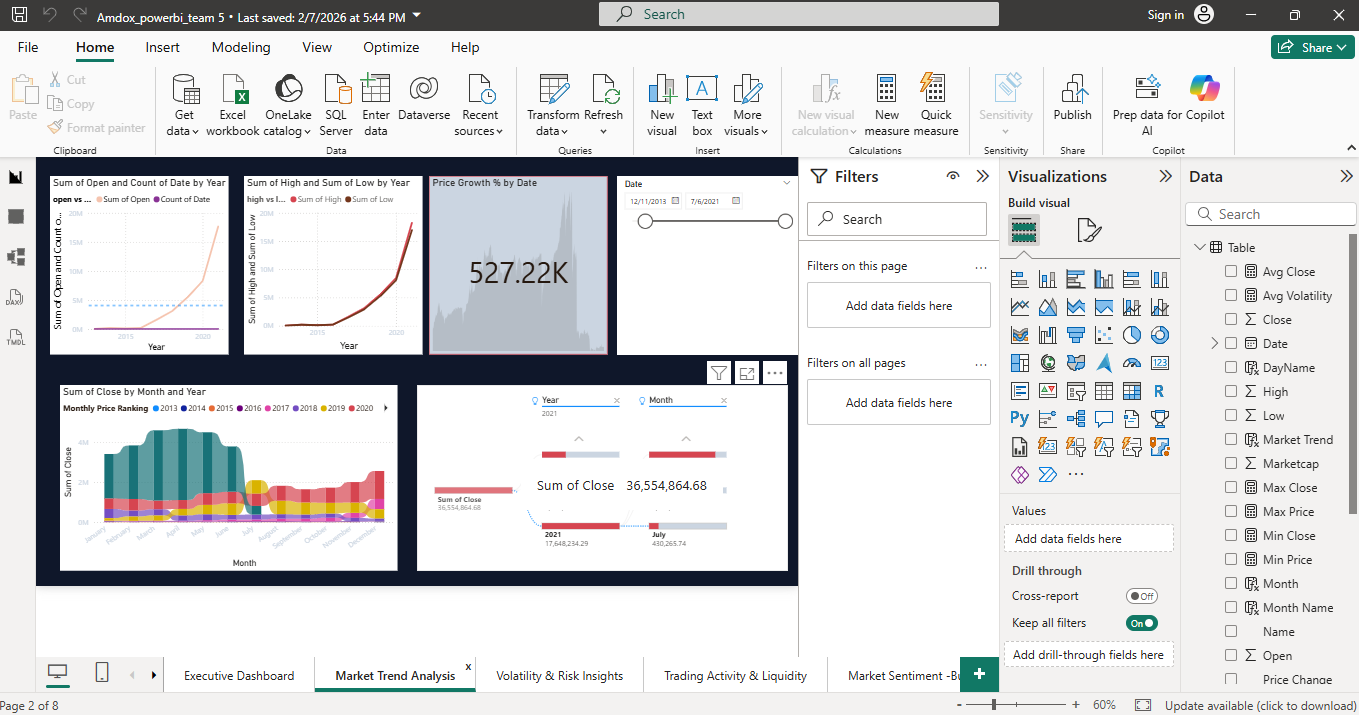

What the dashboard file says about the page in this screenshot:
{"tool":"powerbi","page":{"name":"Market Trend Analysis","canvas":[1280,720],"ordinal":1},"visuals":[{"type":"slicer","fields":{"Values":["Table.Date"]},"box":[975.1,32.1,304.3,300.5],"z":0},{"type":"lineChart","fields":{"Category":["Table.Date.Variation.Date Hierarchy.Year","Table.Date.Variation.Date Hierarchy.Quarter","Table.Date.Variation.Date Hierarchy.Month","Table.Date.Variation.Date Hierarchy.Day"],"Y":["Sum(Table.Open)","CountNonNull(Table.Date)"]},"box":[22.7,32.1,300.5,300.5],"z":1000},{"type":"lineChart","fields":{"Category":["Table.Date.Variation.Date Hierarchy.Year","Table.Date.Variation.Date Hierarchy.Quarter","Table.Date.Variation.Date Hierarchy.Month","Table.Date.Variation.Date Hierarchy.Day"],"Y":["Sum(Table.High)","Sum(Table.Low)"]},"box":[350,32,300,300],"z":2000},{"type":"kpi","fields":{"TrendLine":["Table.Date"],"Indicator":["Table.Price Growth %"]},"box":[660,32,300,300],"z":3000},{"type":"ribbonChart","fields":{"Series":["Table.Date.Variation.Date Hierarchy.Year"],"Category":["Table.Date.Variation.Date Hierarchy.Month"],"Y":["Sum(Table.Close)"]},"box":[39.7,383.6,566.9,311.8],"z":4000},{"type":"decompositionTreeVisual","fields":{"Analyze":["Sum(Table.Close)"],"ExplainBy":["Table.Date.Variation.Date Hierarchy.Year","Table.Date.Variation.Date Hierarchy.Month"]},"box":[640.6,383.6,621.7,311.8],"z":5000}]}

Visuals, with their boxes on the page's 1280x720 design canvas (x1, y1, x2, y2). These are canvas units, not pixel positions in the 1359x715 screenshot, which may show the page scaled, cropped or inside an application window:
slicer - Table.Date: box(975, 32, 1279, 333)
lineChart - Table.Date.Variation.Date Hierarchy.Year x Table.Date.Variation.Date Hierarchy.Quarter: box(23, 32, 323, 333)
lineChart - Table.Date.Variation.Date Hierarchy.Year x Table.Date.Variation.Date Hierarchy.Quarter: box(350, 32, 650, 332)
kpi - Table.Date x Table.Price Growth %: box(660, 32, 960, 332)
ribbonChart - Table.Date.Variation.Date Hierarchy.Year x Table.Date.Variation.Date Hierarchy.Month: box(40, 384, 607, 695)
decompositionTreeVisual - Sum(Table.Close) x Table.Date.Variation.Date Hierarchy.Year: box(641, 384, 1262, 695)
